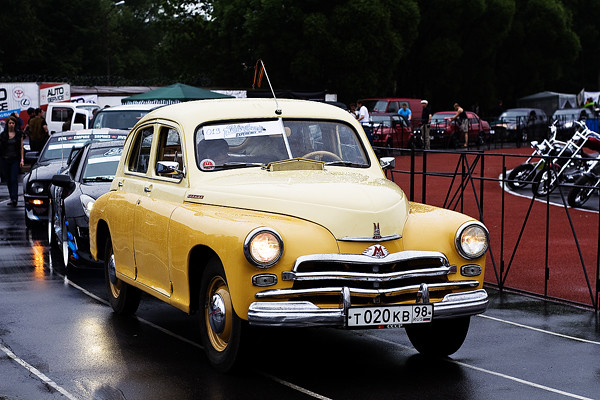car_front: (238, 209, 488, 329)
plate: (348, 304, 433, 326)
